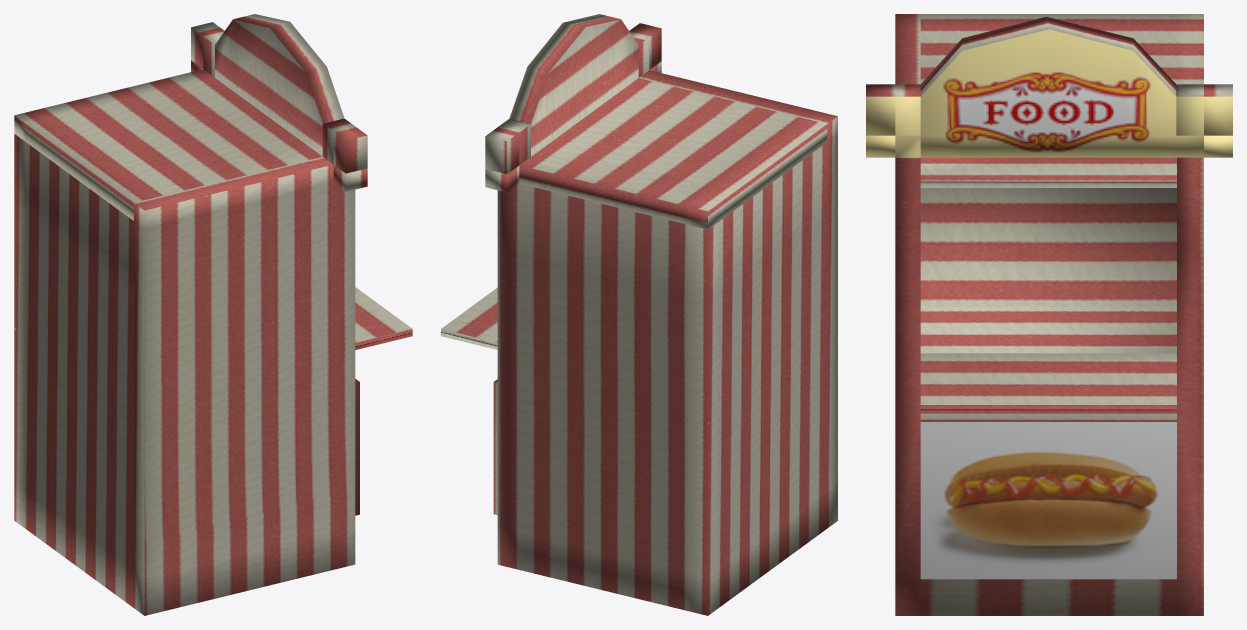
File: food booth.fbx
3 renders of one model, left to right at view 1: azimuth 30°, elevation 25°; view 2: azimuth 150°, elevation 25°; view 3: azimuth 270°, elevation 25°, orthographic. The views are drawn at different scales.
Parts seen in each view (by area): view 1: pCube1; view 2: pCube1; view 3: pCube1.
Part boxes in pixels (x1,y1,x2,y2): pCube1: [14, 14, 412, 615]; pCube1: [441, 14, 837, 615]; pCube1: [866, 14, 1232, 615].
Bounding box in the file's own units: 6.82 × 11.58 × 6.56.
